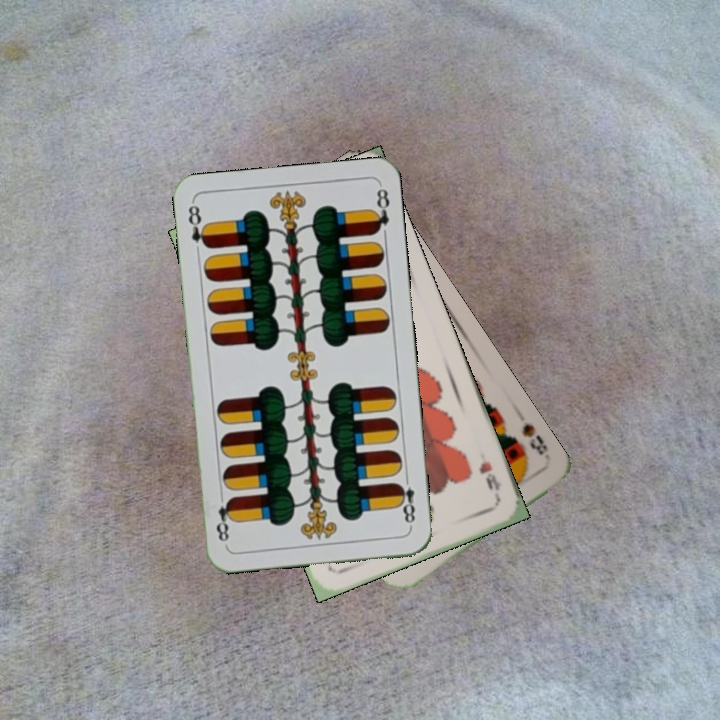E8: (393, 471, 418, 530), (184, 199, 211, 251)
H9: (474, 457, 504, 502)
S8: (518, 419, 551, 458)
